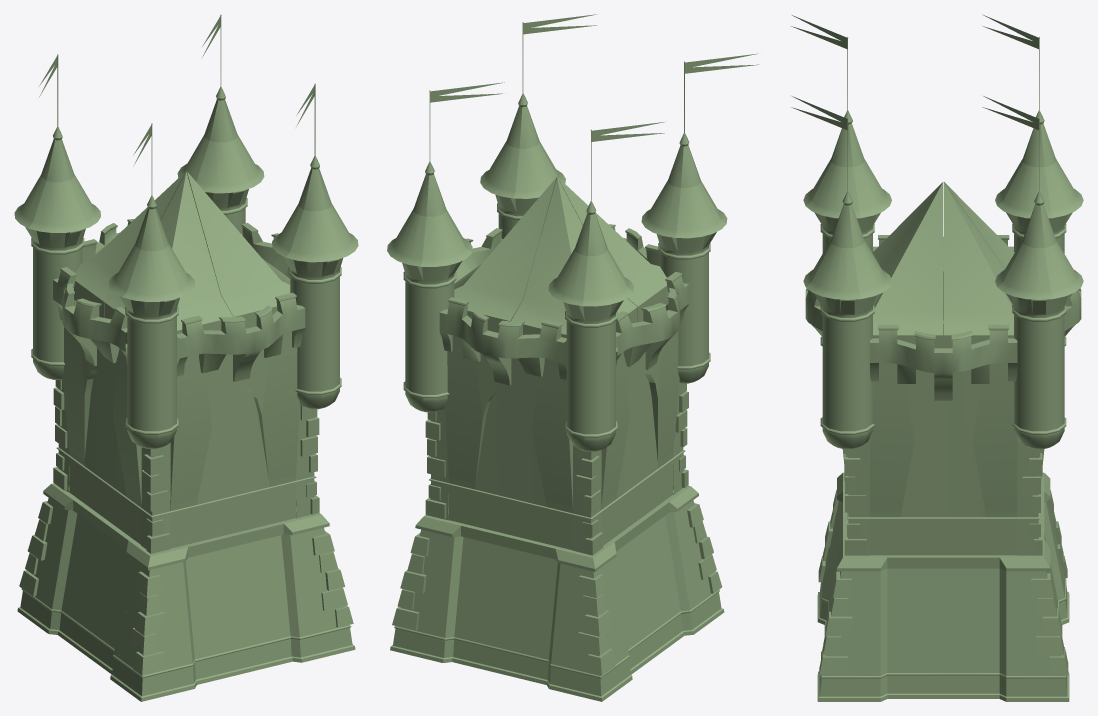
Rendered from castle_tower_.fbx.
3 views of the same model, side by side, from view 1: azimuth 30°, elevation 25°; view 2: azimuth 150°, elevation 25°; view 3: azimuth 270°, elevation 25° (orthographic). The views are drawn at different scales.
Parts seen in each view (by area): view 1: main_wall8 (×2), bottom_wall_19 (×2), pCylinder2 (×4), pCone5 (×4), corner_bottom4 (×2), top_wall21, pCube71, corner_bottom, pCube72, top_wall22, pCone4 (×4), pCone6 (×4) (+7 smaller); view 2: main_wall8 (×2), bottom_wall_19 (×2), pCylinder2 (×4), pCone4 (×4), pCone2 (×4), top_wall19, corner_bottom (×2), pCube70, corner_bottom4, pCube69, top_wall22, pCube72 (+5 smaller); view 3: main_wall8, bottom_wall_19 (×3), pCylinder2 (×4), pCone6 (×4), pCube71, pCube70, pCone2 (×4), top_wall20, corner_bottom, corner_bottom4, pCube3, pCube68 (+8 smaller).
Boxes of the visible parts, left/top/right/bottom form: main_wall8 (×2): left=62, top=327, right=299, bottom=548; bottom_wall_19 (×2): left=43, top=492, right=310, bottom=690; pCylinder2 (×4): left=25, top=189, right=342, bottom=448; pCone5 (×4): left=29, top=100, right=346, bottom=301; corner_bottom4 (×2): left=17, top=482, right=355, bottom=660; top_wall21: left=177, top=292, right=305, bottom=381; pCube71: left=187, top=171, right=290, bottom=328; corner_bottom: left=115, top=545, right=185, bottom=701; pCube72: left=105, top=171, right=232, bottom=333; top_wall22: left=53, top=267, right=127, bottom=365; pCone4 (×4): left=14, top=99, right=312, bottom=297; pCone6 (×4): left=61, top=99, right=358, bottom=295; main_wall8 (×2): left=445, top=331, right=679, bottom=550; bottom_wall_19 (×2): left=434, top=495, right=698, bottom=690; pCylinder2 (×4): left=402, top=194, right=716, bottom=451; pCone4 (×4): left=421, top=106, right=726, bottom=306; pCone2 (×4): left=387, top=106, right=683, bottom=305; top_wall19: left=439, top=297, right=566, bottom=385; corner_bottom (×2): left=390, top=484, right=724, bottom=660; pCube70: left=454, top=177, right=556, bottom=332; corner_bottom4: left=558, top=547, right=627, bottom=701; pCube69: left=511, top=177, right=637, bottom=338; top_wall22: left=616, top=272, right=689, bottom=369; pCube72: left=558, top=177, right=668, bottom=322; main_wall8: left=870, top=363, right=1017, bottom=555; bottom_wall_19 (×3): left=817, top=484, right=1069, bottom=701; pCylinder2 (×4): left=814, top=212, right=1072, bottom=449; pCone6 (×4): left=806, top=124, right=1052, bottom=299; pCube71: left=873, top=182, right=943, bottom=348; pCube70: left=944, top=182, right=1013, bottom=348; pCone2 (×4): left=849, top=123, right=1083, bottom=298; top_wall20: left=870, top=324, right=1017, bottom=400; corner_bottom: left=1017, top=546, right=1069, bottom=701; corner_bottom4: left=817, top=546, right=869, bottom=701; pCube3: left=1017, top=438, right=1039, bottom=555; pCube68: left=847, top=438, right=869, bottom=555.
Size of the model in its own units: 7.25 by 15.6 by 7.28.
